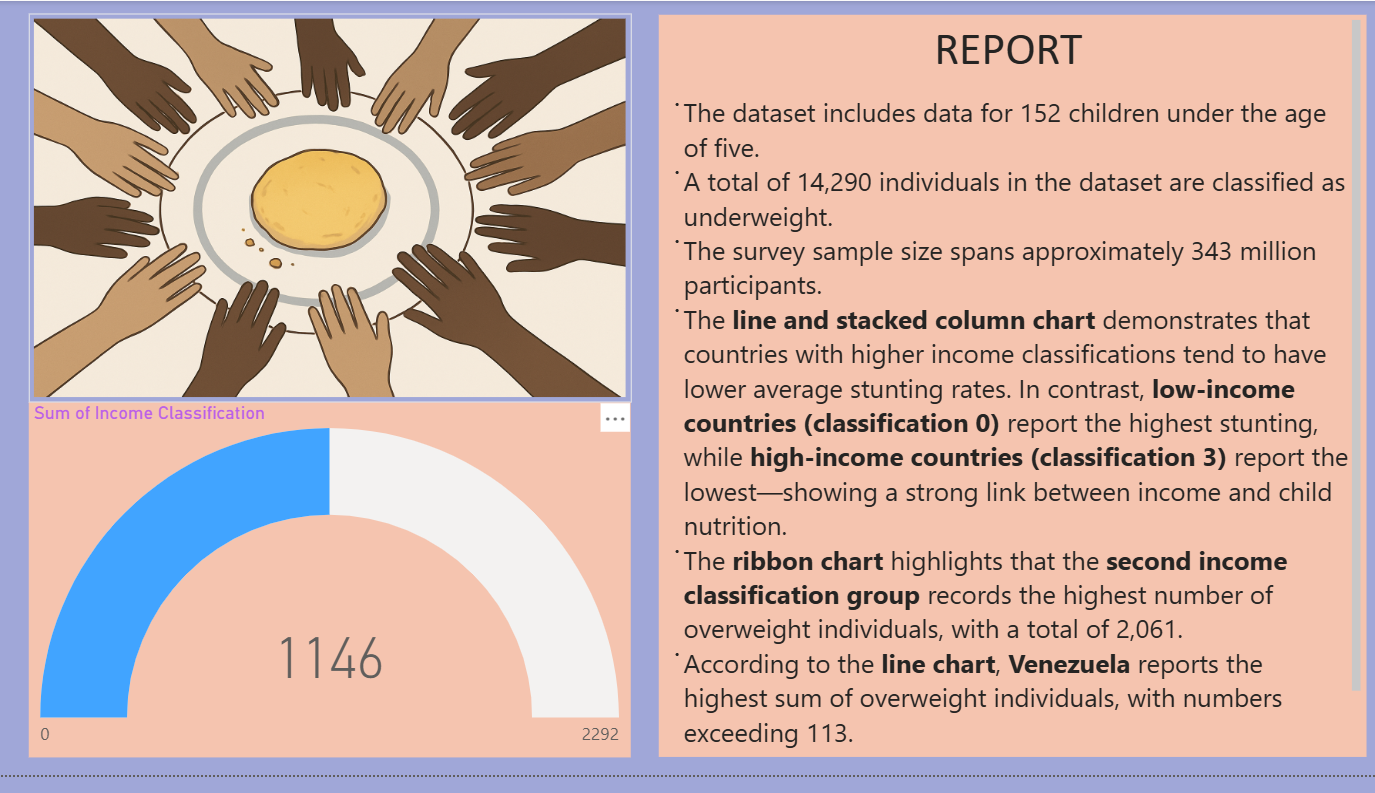

This screenshot's page, from the dashboard's own definition file:
{"tool":"powerbi","page":{"name":"Page 2","canvas":[1280,720],"ordinal":1},"visuals":[{"type":"textbox","box":[613.3,12.4,658.1,690.4],"z":0},{"type":"gauge","fields":{"Y":["malnutrition-estimates.Income Classification"]},"box":[27.1,372.9,560,330],"z":1000},{"type":"image","box":[26.7,11.6,560.5,361.6],"z":1001}]}

Visuals, with their boxes in screenshot pixels (x1, y1, x2, y2), scaled from the page's 1280x720 canvas onto the 1375x793 screenshot:
textbox: <bbox>659, 14, 1366, 774</bbox>
gauge - malnutrition-estimates.Income Classification: <bbox>29, 411, 631, 774</bbox>
image: <bbox>29, 13, 631, 411</bbox>
